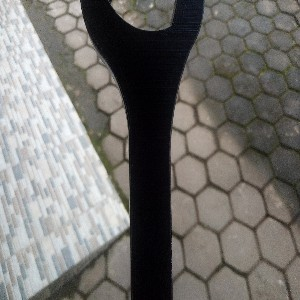spanner: (79, 1, 205, 300)
